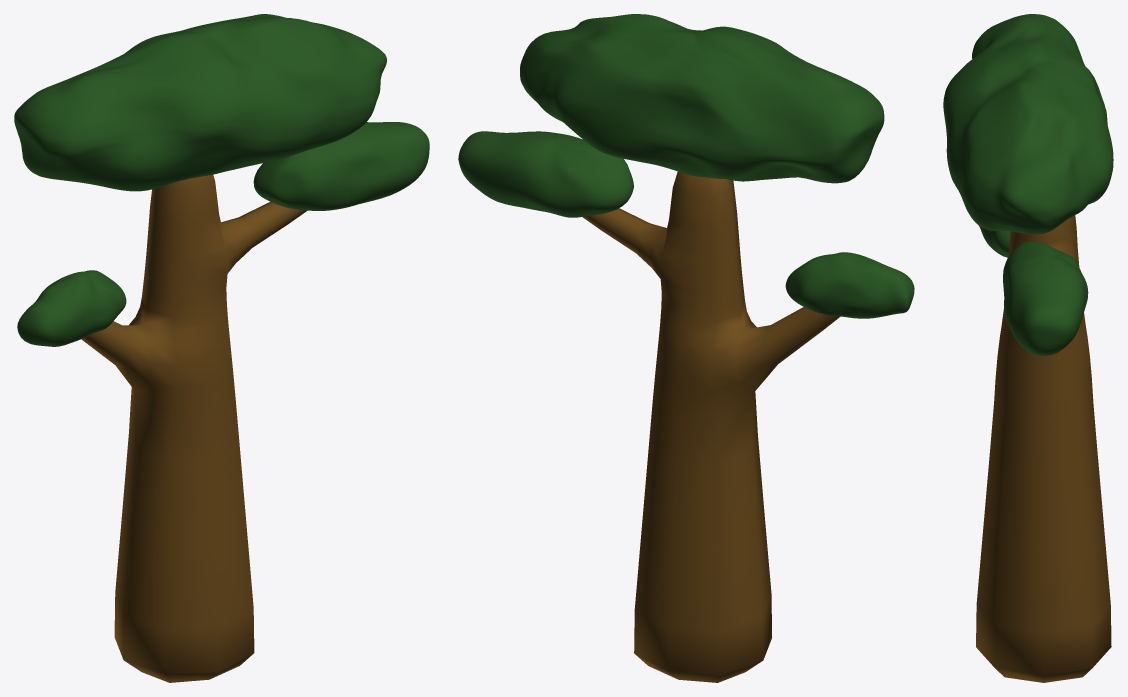
Rendered from baobab2.gltf.
The picture shows the model from 3 angles, left to right: view 1: azimuth 30°, elevation 25°; view 2: azimuth 150°, elevation 25°; view 3: azimuth 270°, elevation 25°; orthographic projection. The views are drawn at different scales.
Visible parts, largest first — view 1: Sphere.001; view 2: Sphere.001; view 3: Sphere.001.
Boxes of the visible parts, x1,y1,x2,y2 form: Sphere.001: (14, 14, 429, 682); Sphere.001: (458, 14, 914, 682); Sphere.001: (943, 14, 1113, 682).
Bounding box in the file's own units: 4.55 × 6.48 × 1.63.
